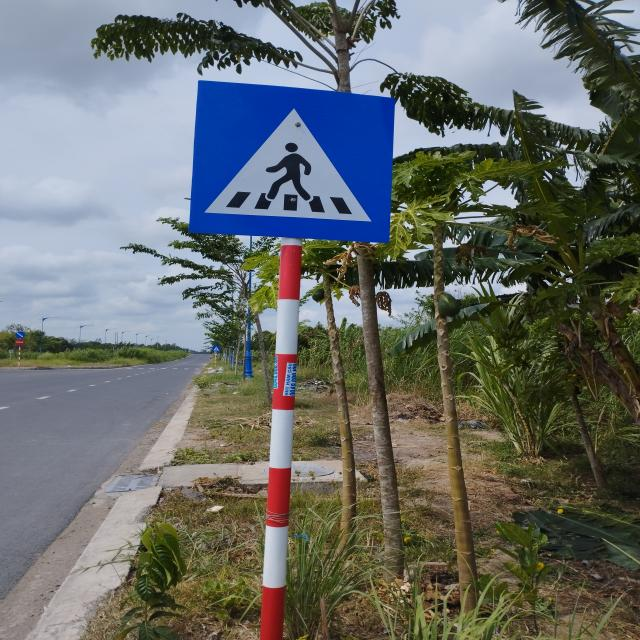Giao_Nhau_Duong_Uu_Tien: (190, 80, 395, 242)
